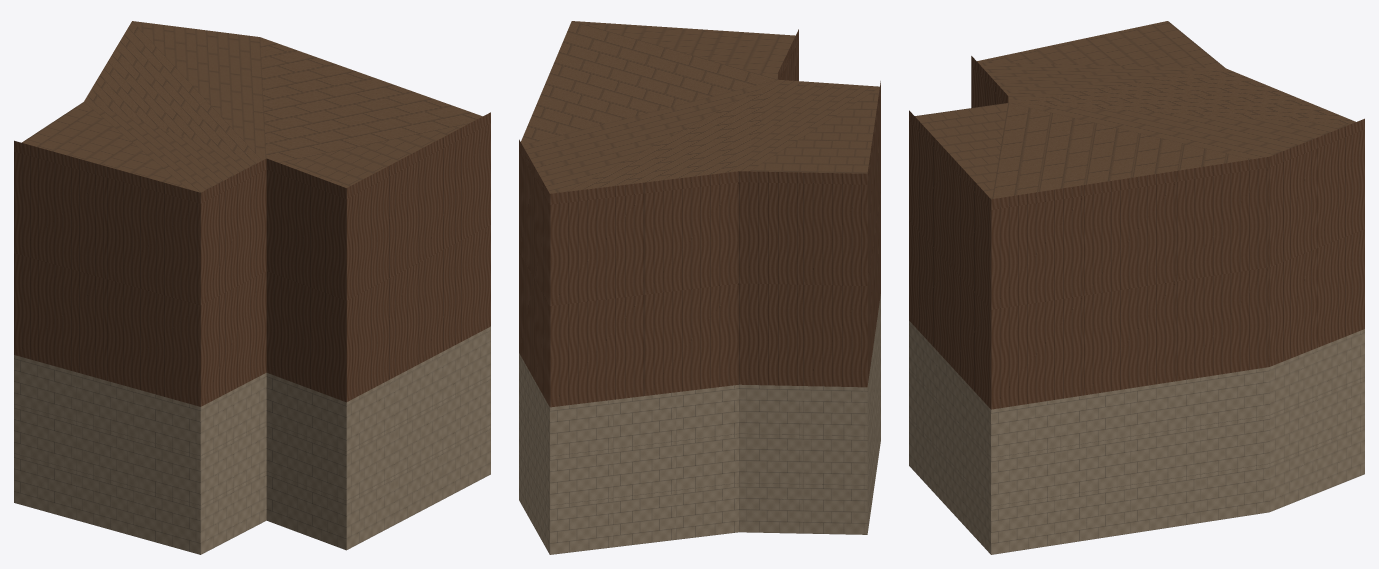
File: bld_c34_-29_456.gltf
3 renders of one model, left to right at view 1: azimuth 30°, elevation 25°; view 2: azimuth 150°, elevation 25°; view 3: azimuth 270°, elevation 25°, orthographic.
Visible parts, largest first — view 1: bld_c34_-29_456; view 2: bld_c34_-29_456; view 3: bld_c34_-29_456.
Boxes of the visible parts, x1,y1,x2,y2 form: bld_c34_-29_456: (14, 21, 490, 554); bld_c34_-29_456: (519, 21, 880, 554); bld_c34_-29_456: (909, 21, 1364, 554).
Bounding box in the file's own units: 13.95 × 12.48 × 14.5.
4 materials, 4 textured.
